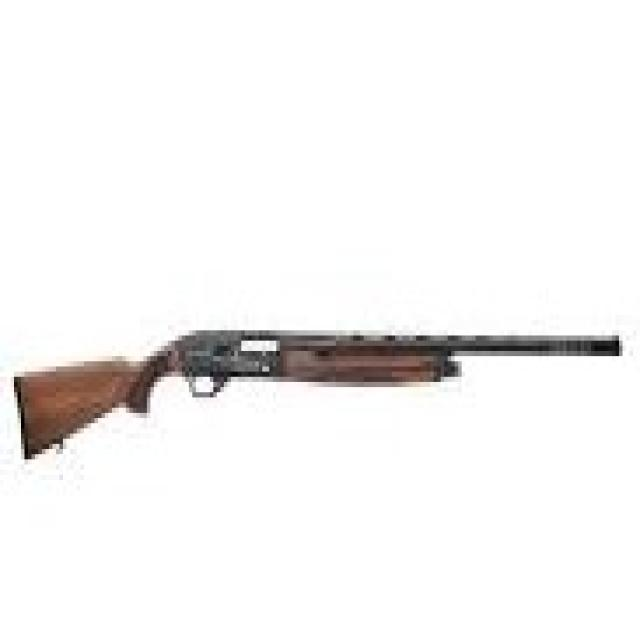rifle: (10, 321, 629, 465)
